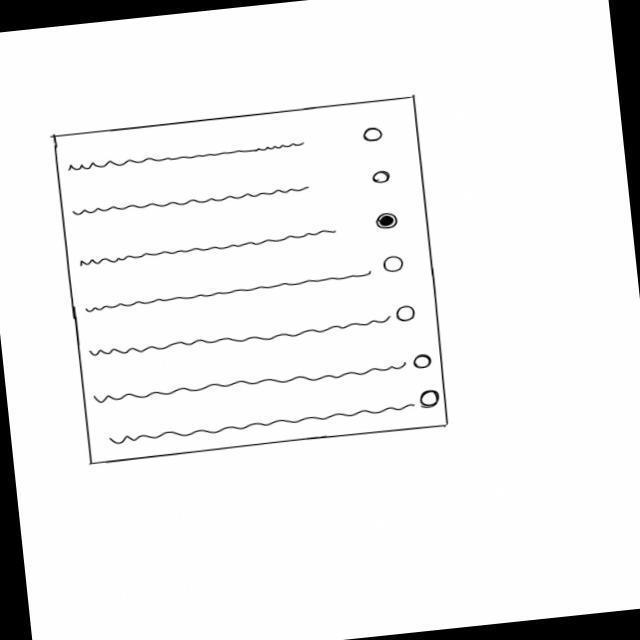container: (49, 94, 453, 469)
radio: (373, 213, 399, 236), (382, 256, 404, 280), (420, 389, 440, 415), (364, 124, 384, 149), (372, 167, 394, 189), (396, 306, 417, 329), (415, 350, 432, 377)
